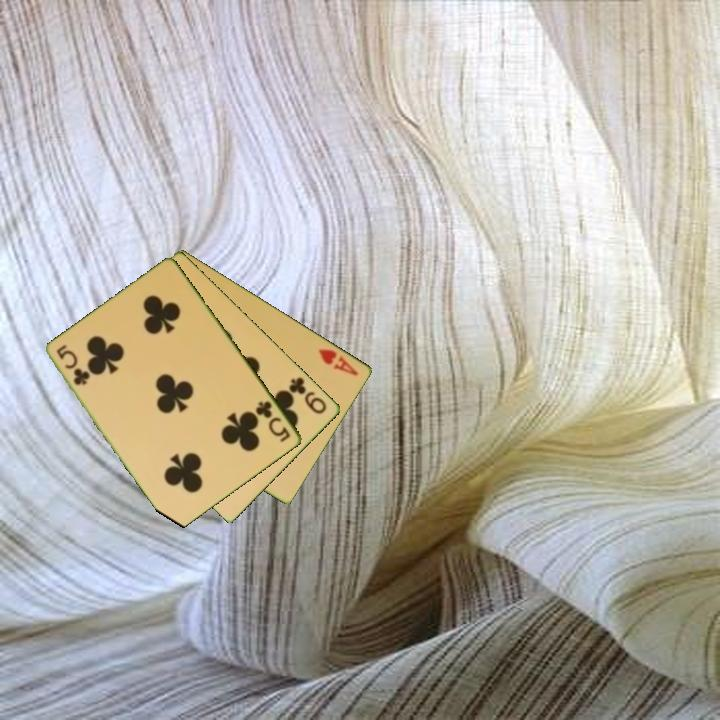5c: (252, 398, 293, 445), (53, 341, 92, 388)
9c: (285, 373, 330, 417)
Ah: (315, 345, 362, 379)
